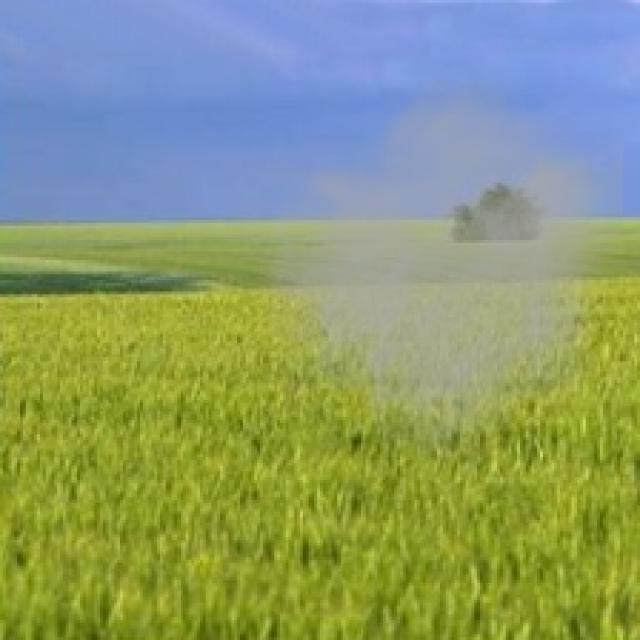Smoke: (220, 57, 623, 474)
